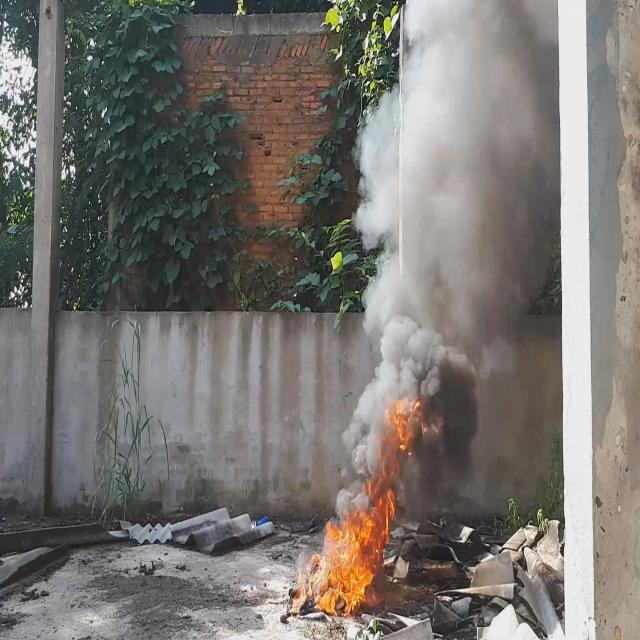Fire: (310, 390, 425, 624)
Smoke: (341, 0, 558, 478)
